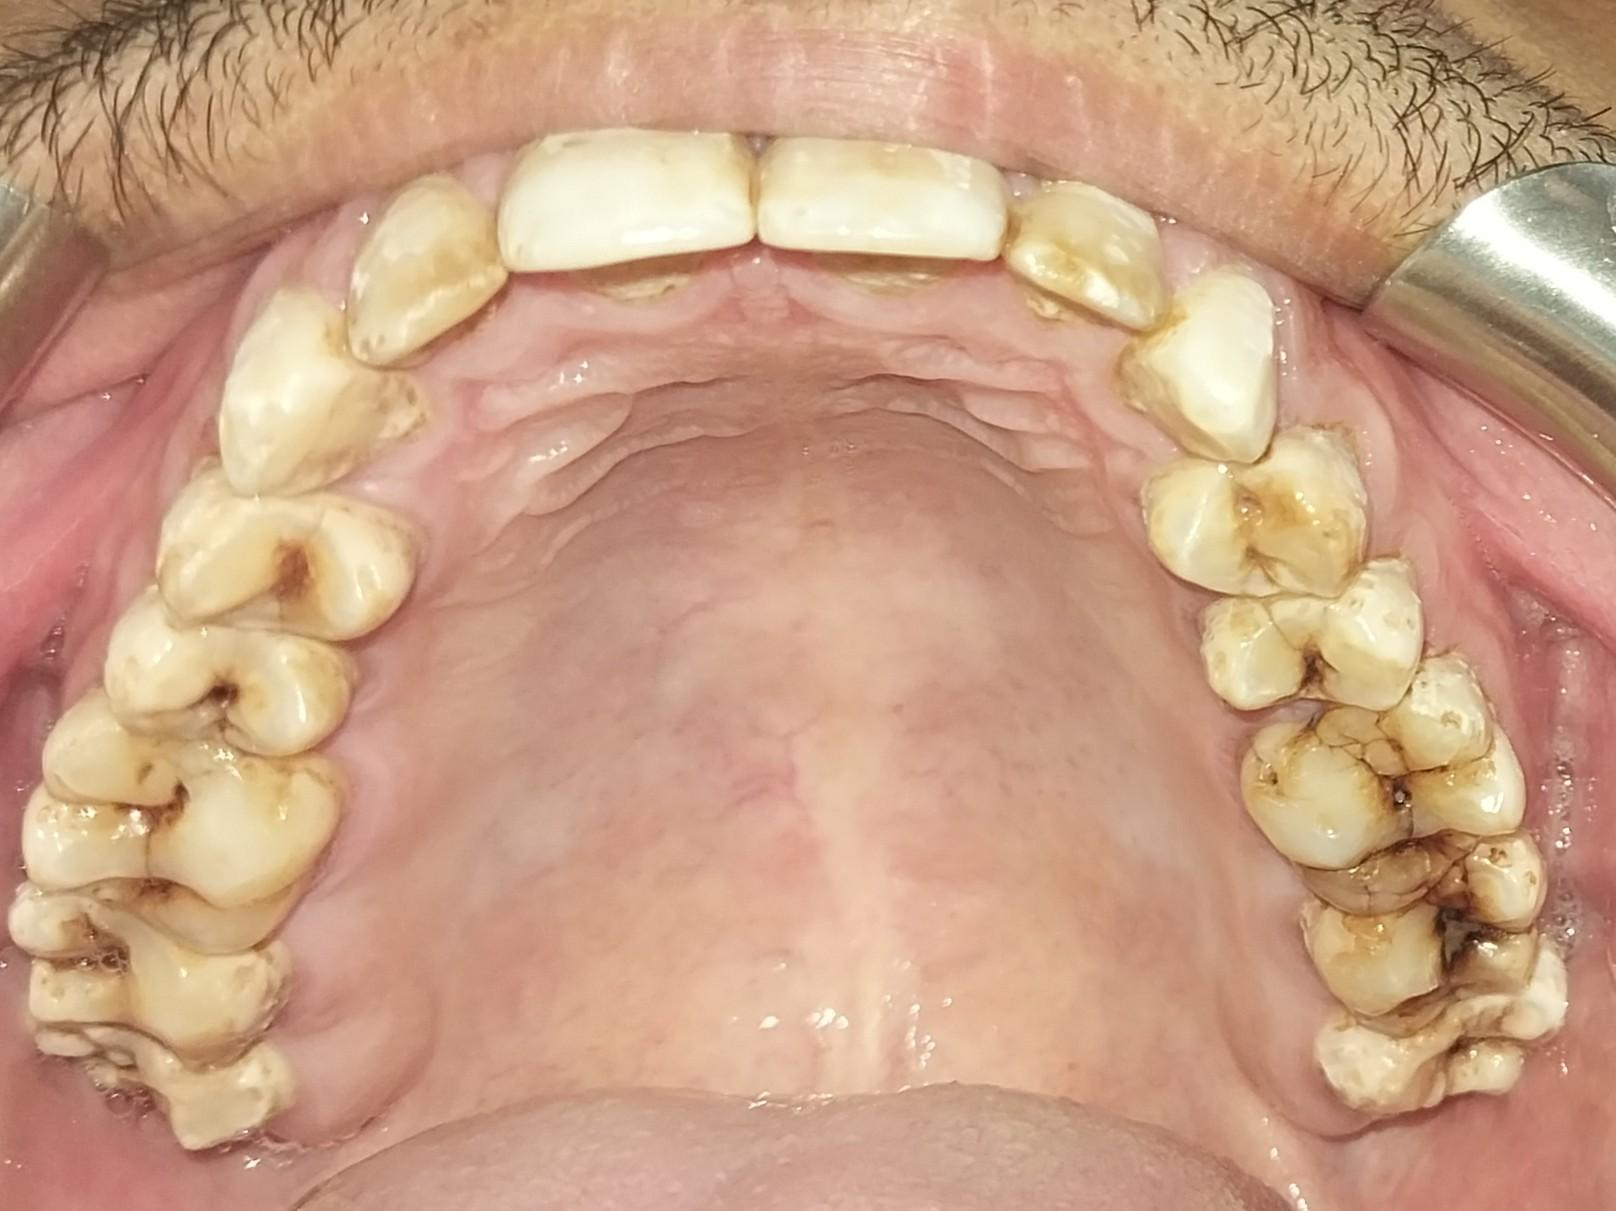D: (20, 706, 337, 956), (1238, 674, 1524, 915), (1, 891, 281, 1069), (103, 588, 353, 756), (1201, 561, 1423, 715), (1320, 980, 1560, 1113), (1303, 902, 1541, 1030)
